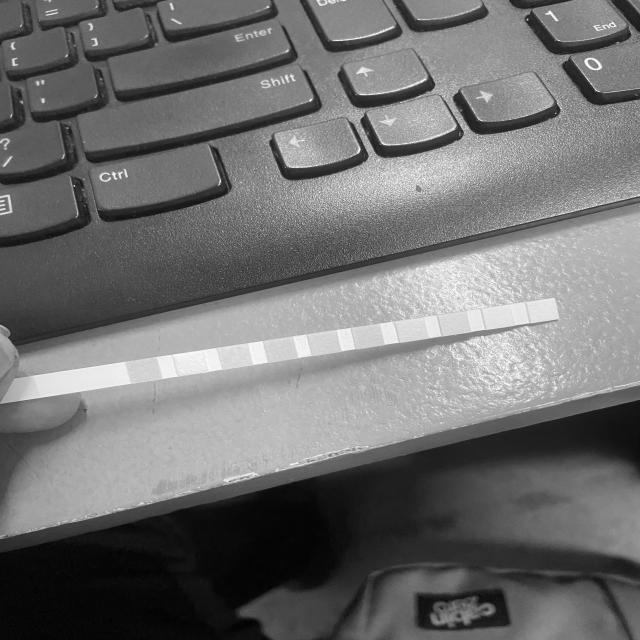Bilirubin: (177, 354, 204, 372)
Blood: (311, 334, 338, 352)
Glucose: (132, 360, 158, 380)
Ketone: (221, 347, 249, 365)
Leukocytes: (528, 302, 556, 320)
Nitrite: (484, 308, 510, 326)
Protein: (398, 322, 425, 339)
SpGravity: (267, 340, 294, 359)
Urobilinogen: (441, 315, 468, 333)
background: (0, 0, 640, 640)
pH: (354, 327, 380, 345)
strip: (0, 298, 560, 403)
